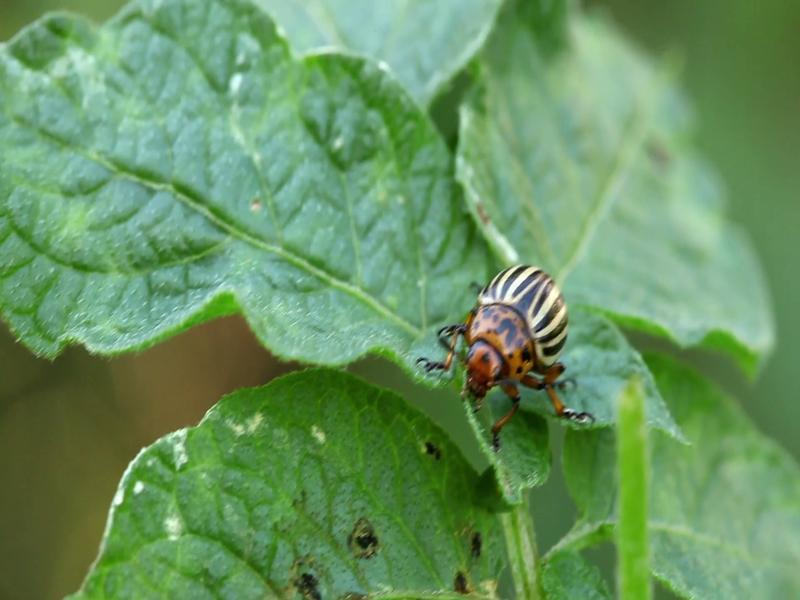hrosc: (459, 252, 566, 419)
